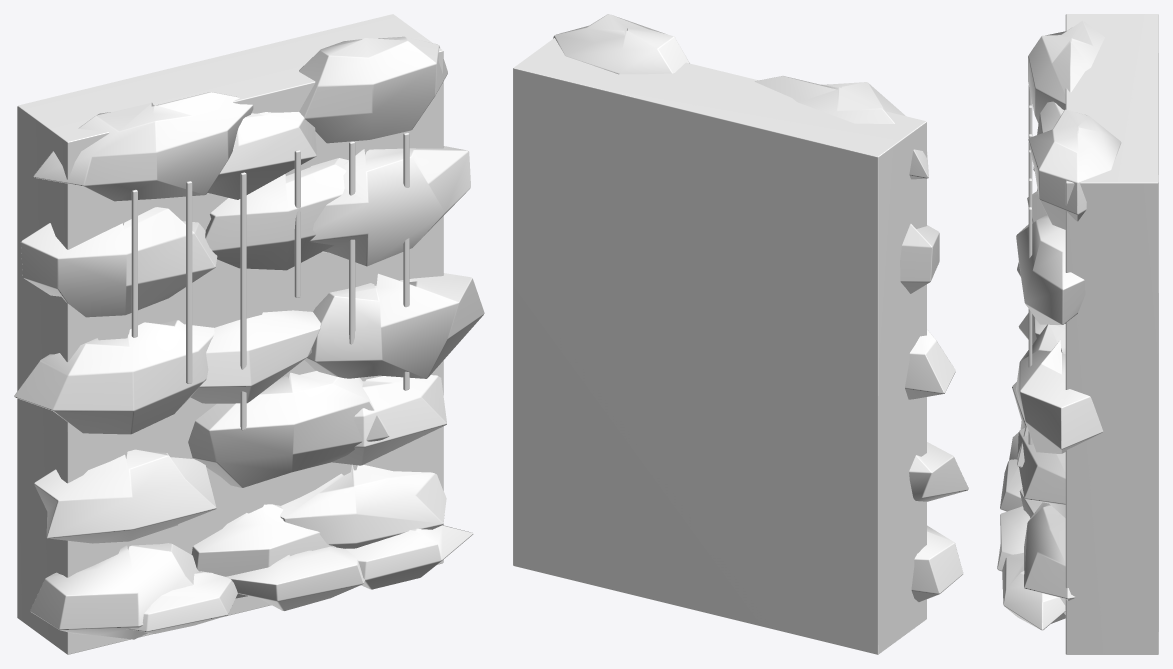
The model's file is wall_moss.glb.
The picture shows the model from 3 angles, left to right: view 1: azimuth 30°, elevation 25°; view 2: azimuth 150°, elevation 25°; view 3: azimuth 270°, elevation 25°; orthographic projection. The views are drawn at different scales.
Visible parts, largest first — view 1: WallMoss; view 2: WallMoss; view 3: WallMoss.
Boxes of the visible parts, x1,y1,x2,y2 form: WallMoss: (14, 14, 484, 654); WallMoss: (513, 14, 968, 654); WallMoss: (997, 14, 1158, 654).
Size of the model in its own units: 5.14 by 5.88 by 1.74.
1 material, 1 textured.
